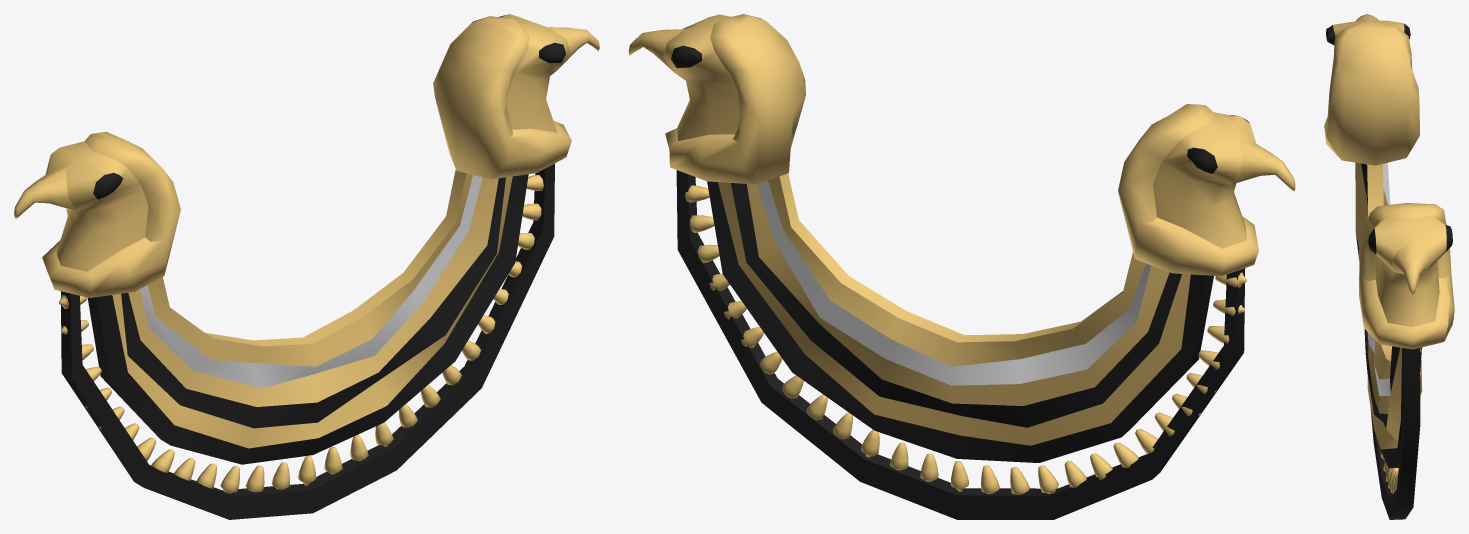
The model's file is Broad CollarModel.fbx.
3 renders of one model, left to right at view 1: azimuth 30°, elevation 25°; view 2: azimuth 150°, elevation 25°; view 3: azimuth 270°, elevation 25°, orthographic. The views are drawn at different scales.
Visible parts, largest first — view 1: Cube; view 2: Cube; view 3: Cube.
Boxes of the visible parts, <box> form: Cube: <box>14,14,599,519</box>; Cube: <box>628,14,1295,519</box>; Cube: <box>1324,14,1454,519</box>.
Size of the model in its own units: 66 by 44.36 by 13.71.
